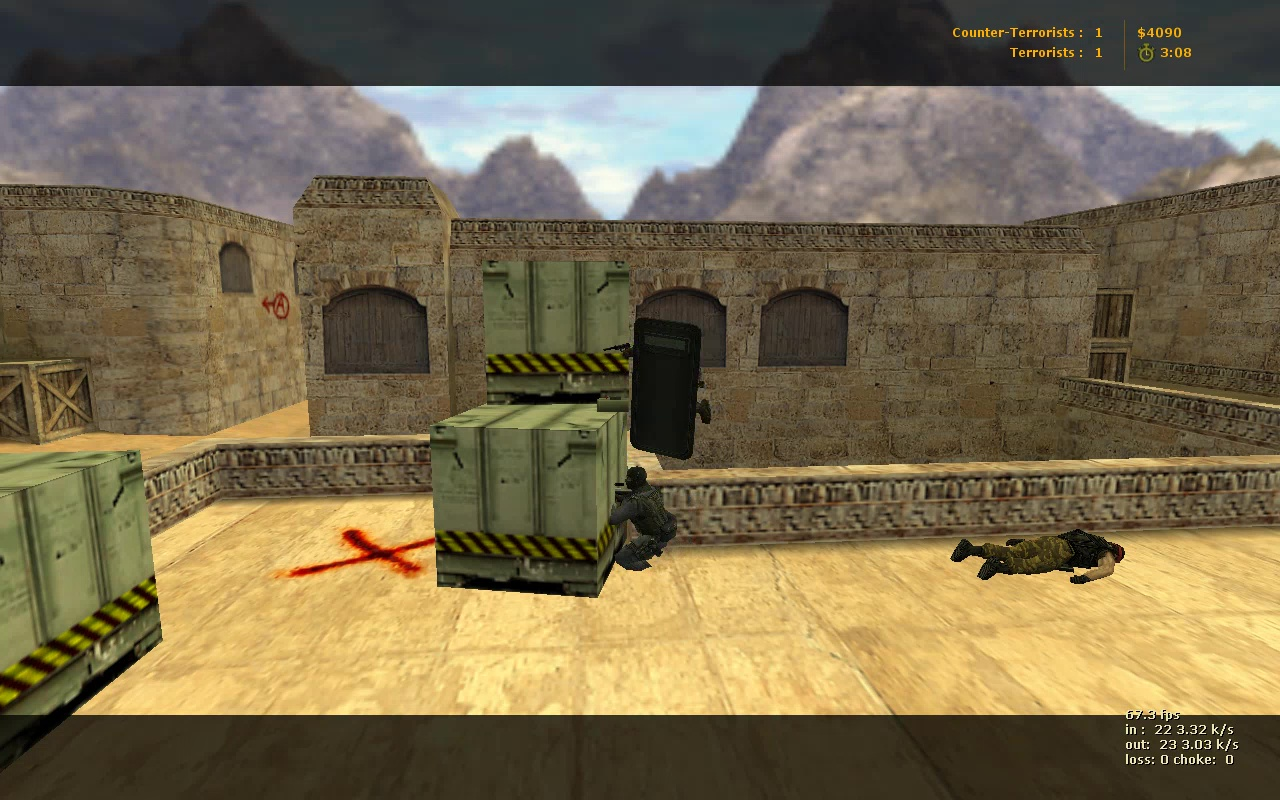ct: (627, 315, 715, 459), (610, 468, 678, 575)
dead: (955, 527, 1128, 585)
